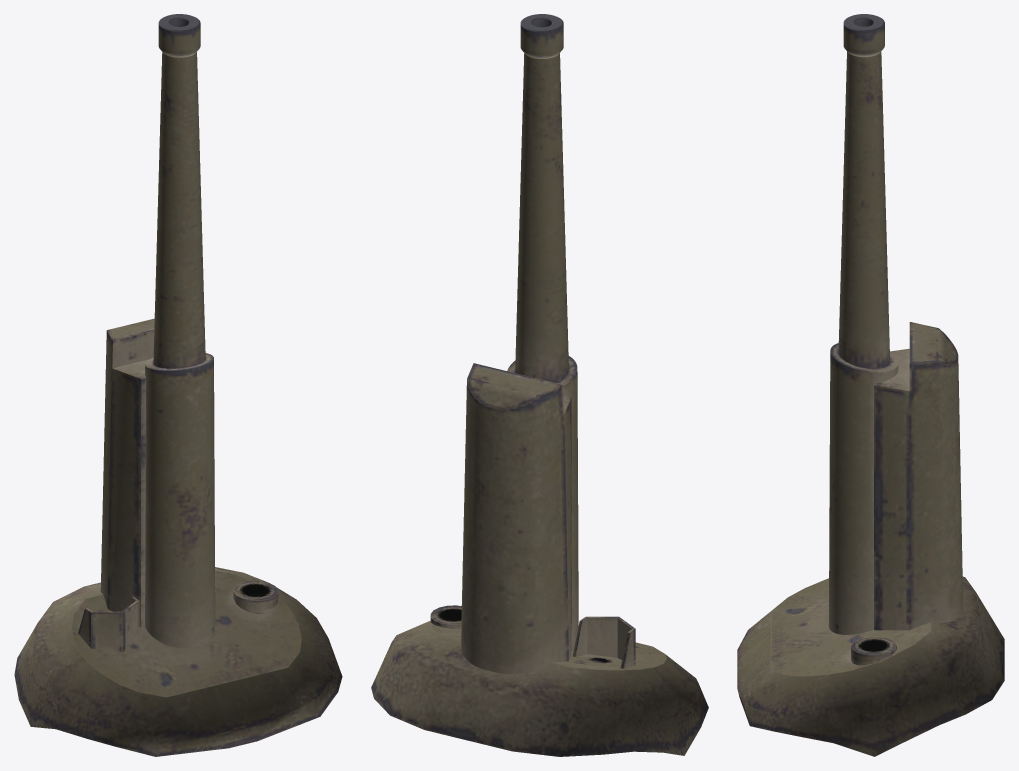
Rendered from Gun_06.glb.
The picture shows the model from 3 angles, left to right: view 1: azimuth 30°, elevation 25°; view 2: azimuth 150°, elevation 25°; view 3: azimuth 270°, elevation 25°; orthographic projection. The views are drawn at different scales.
Visible parts, largest first — view 1: set_0_group_0; view 2: set_0_group_0; view 3: set_0_group_0.
Boxes of the visible parts, <box> form: set_0_group_0: <box>14,14,342,756</box>; set_0_group_0: <box>371,14,708,756</box>; set_0_group_0: <box>737,14,1004,756</box>.
Size of the model in its own units: 0.5568 by 1.25 by 0.4531.
Materials: 1 (1 with a texture image).
